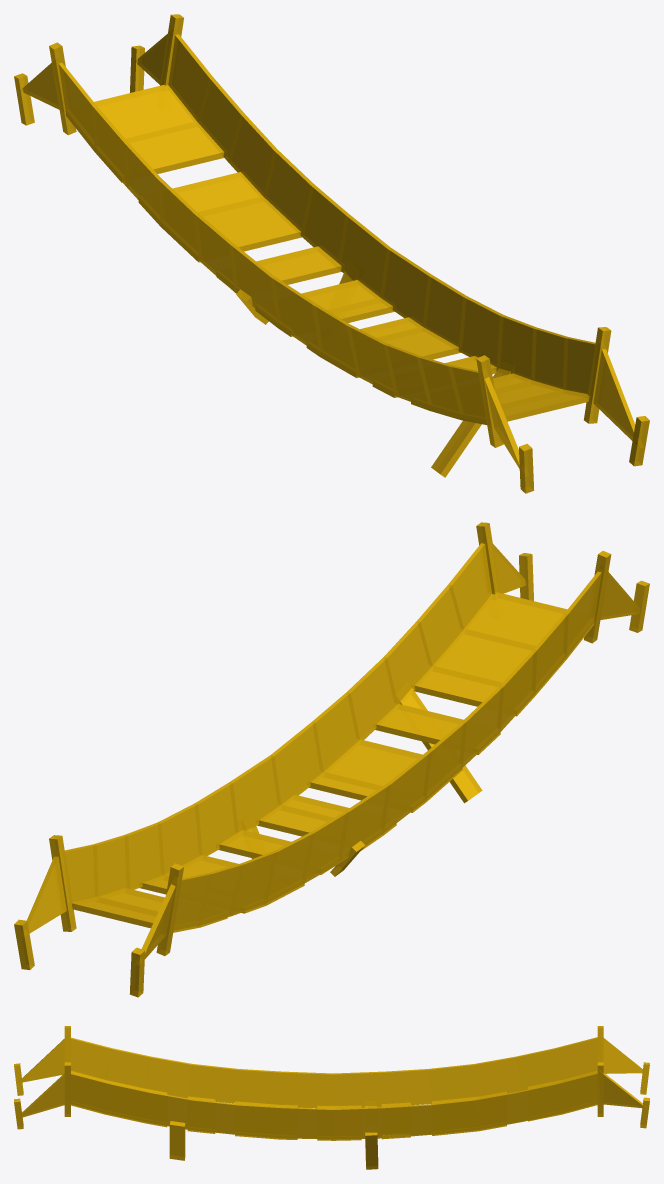
The model's file is SM_Bld_Ropebridge_Damaged_02_Collision.fbx.
3 views of the same model, one above another, from view 1: azimuth 30°, elevation 25°; view 2: azimuth 150°, elevation 25°; view 3: azimuth 270°, elevation 25° (orthographic). The views are drawn at different scales.
Visible parts, largest first — view 1: SM_Bld_Ropebridge_Damaged_02_Collision; view 2: SM_Bld_Ropebridge_Damaged_02_Collision; view 3: SM_Bld_Ropebridge_Damaged_02_Collision.
Part boxes in pixels (x1,y1,x2,y2): SM_Bld_Ropebridge_Damaged_02_Collision: [14, 14, 649, 493]; SM_Bld_Ropebridge_Damaged_02_Collision: [14, 522, 649, 997]; SM_Bld_Ropebridge_Damaged_02_Collision: [14, 1026, 649, 1169].
Size of the model in its own units: 258 by 366 by 1753.
